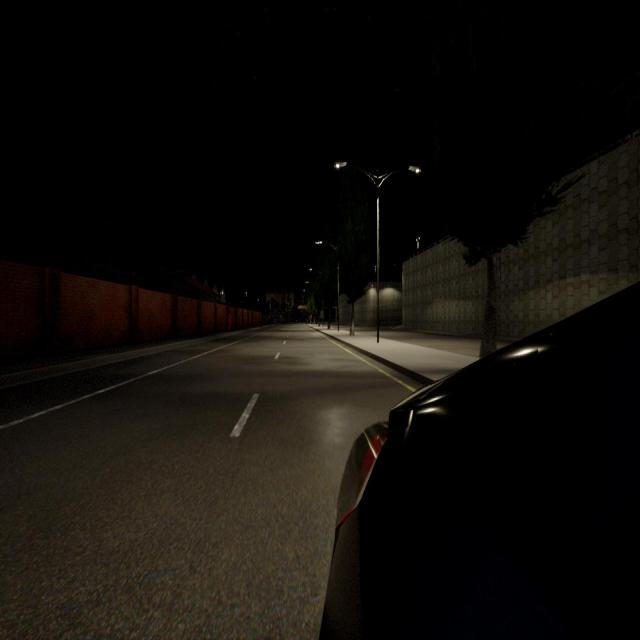Pedestrian: (227, 311, 232, 332)
Vehicle: (323, 288, 640, 638)
